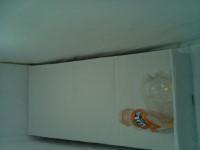bottle: (117, 68, 175, 134)
